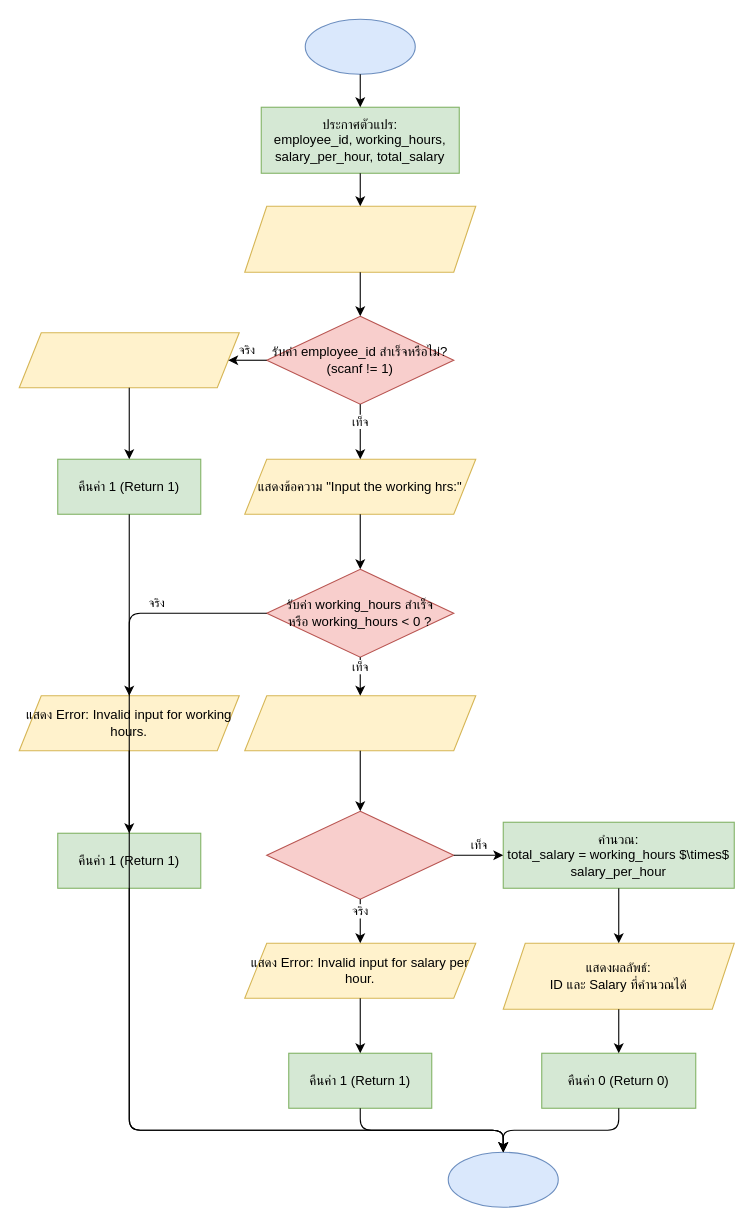
The diagram is 754 pixels wide and 1227 high, and some of its shapes have lost their labels. The shapes that lost their labels are listed below. From the top down, each one's centre as x and y in pixels, then its label:
the point at 359,46: เริ่มต้น
the point at 360,238: แสดงข้อความ "Input the Employees ID..." และรับค่า employee_id
the point at 128,360: แสดง Error: Invalid input for Employee ID.
the point at 360,723: แสดงข้อความ "Salary amount/hr:"
the point at 360,854: รับค่า salary_per_hour สำเร็จ หรือ salary_per_hour < 0 ?
the point at 502,1179: สิ้นสุด
